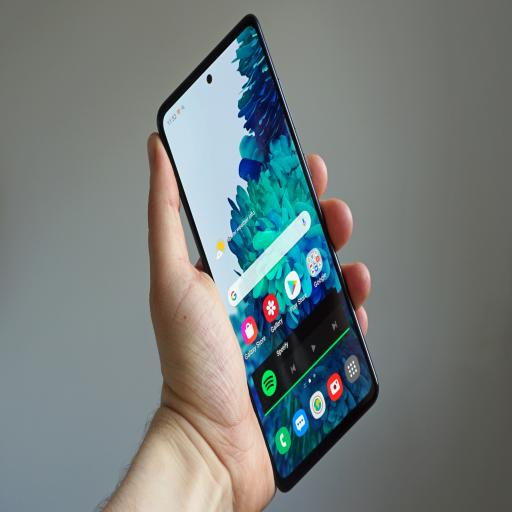phone: (152, 12, 385, 502)
